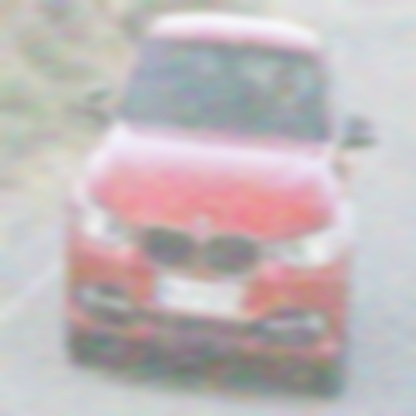Vehicle: (63, 12, 381, 402)
